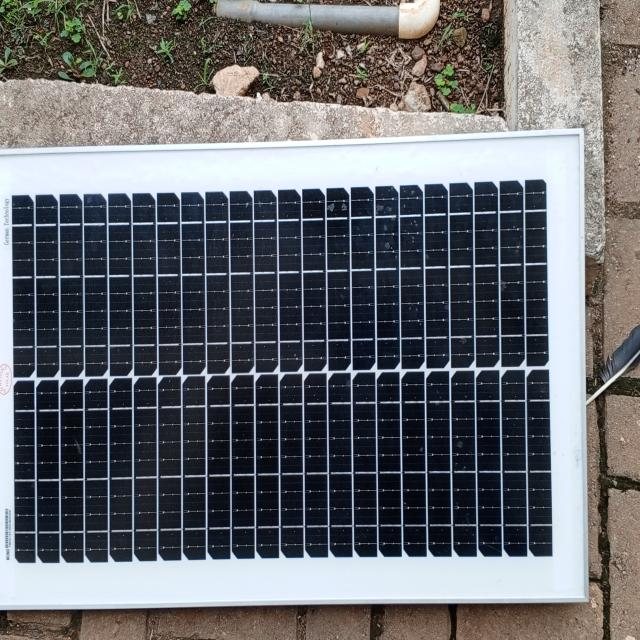Clean: (2, 172, 558, 576)
